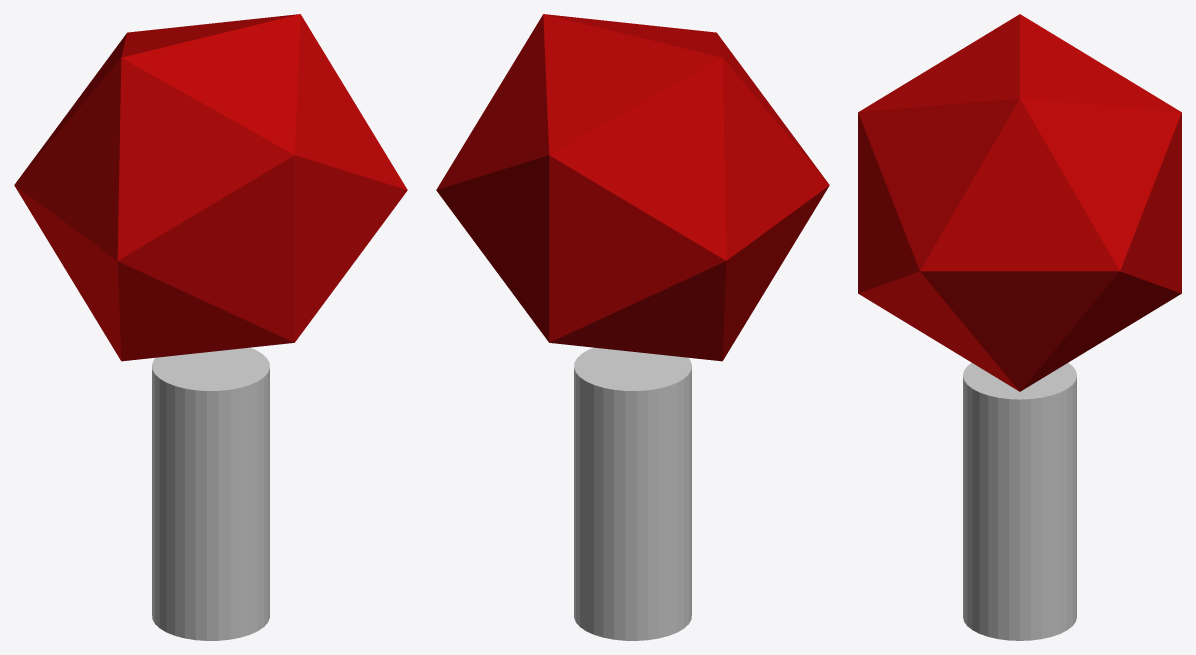
The picture shows the model from 3 angles, left to right: view 1: azimuth 30°, elevation 25°; view 2: azimuth 150°, elevation 25°; view 3: azimuth 270°, elevation 25°; orthographic projection. The views are drawn at different scales.
Parts seen in each view (by area): view 1: geometry_0, geometry_1; view 2: geometry_0, geometry_1; view 3: geometry_0, geometry_1.
Boxes of the visible parts, x1,y1,x2,y2 form: geometry_0: [14, 14, 407, 361]; geometry_1: [152, 347, 269, 640]; geometry_0: [436, 14, 829, 361]; geometry_1: [574, 347, 691, 640]; geometry_0: [858, 14, 1181, 391]; geometry_1: [963, 363, 1076, 640].
Bounding box in the file's own units: 0.8507 × 1.63 × 0.8507.
